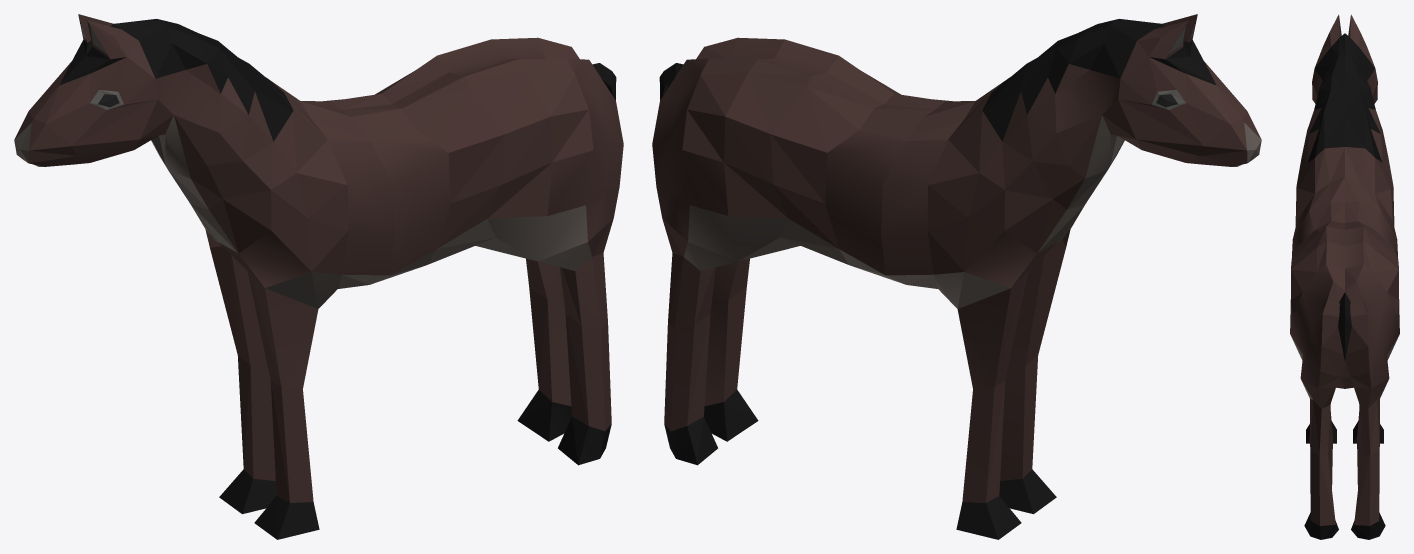
The model's file is Pferd_Boxer_alt.FBX.
3 renders of one model, left to right at view 1: azimuth 30°, elevation 25°; view 2: azimuth 150°, elevation 25°; view 3: azimuth 270°, elevation 25°, orthographic. The views are drawn at different scales.
Parts seen in each view (by area): view 1: Body; view 2: Body; view 3: Body.
Boxes of the visible parts, box(x1,y1,x2,y2) form: Body: box(14, 14, 623, 539); Body: box(652, 14, 1261, 539); Body: box(1290, 14, 1399, 539).
Bounding box in the file's own units: 71.42 × 17.08 × 62.11.
